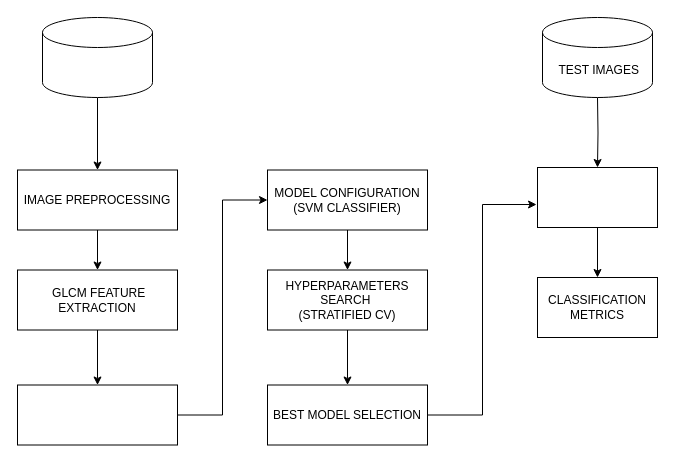
Some shapes in this 675 by 463 pixel diagram are drawn without their labels. The shapes that lost their labels are listed below. From the top down, each one's centre as x and y in pixels, then its label:
At (97,57): "TRAINING IMAGES".
At (597,197): "MODEL EVALUATION".
At (97,414): "DWT FEATURE EXTRACTION".
